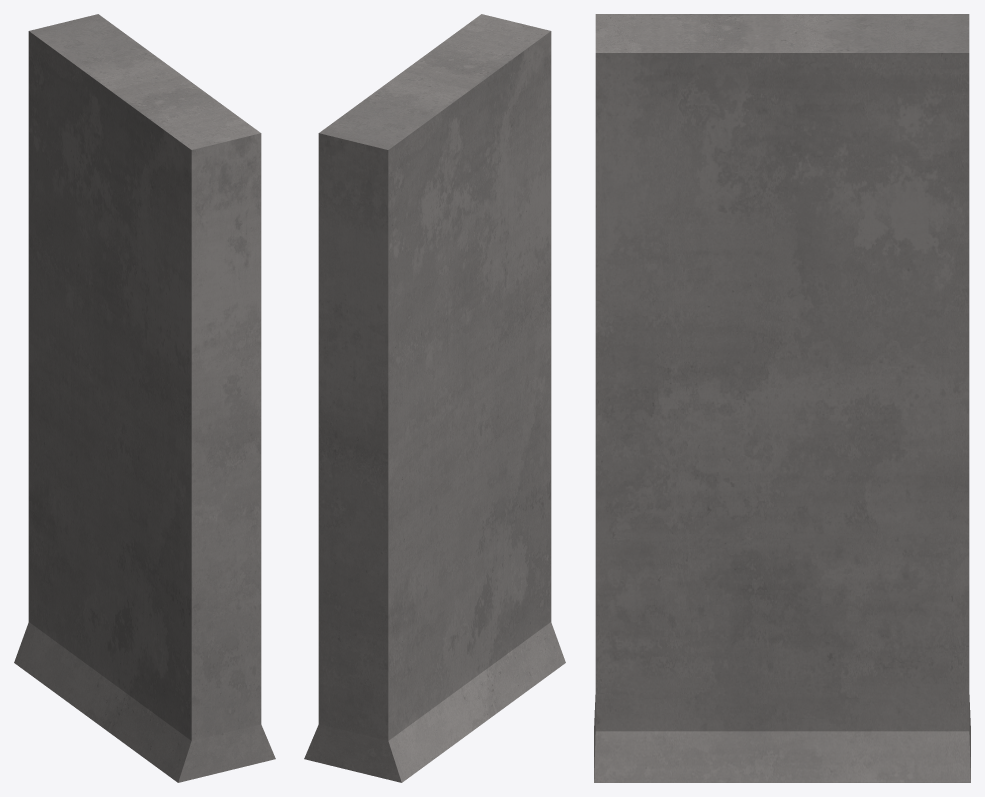
The model's file is Concrete.fbx.
3 renders of one model, left to right at view 1: azimuth 30°, elevation 25°; view 2: azimuth 150°, elevation 25°; view 3: azimuth 270°, elevation 25°, orthographic. The views are drawn at different scales.
Visible parts, largest first — view 1: Cube; view 2: Cube; view 3: Cube.
Part boxes in pixels (x1,y1,x2,y2): Cube: (14,14,275,782); Cube: (304,14,565,782); Cube: (594,14,970,782).
Bounding box in the file's own units: 64.86 × 398 × 188.
Materials: 1 (1 with a texture image).
